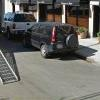Car: (19, 20, 87, 61)
